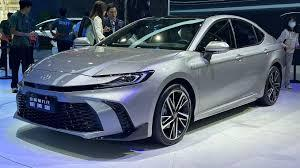toyota: (40, 71, 51, 82)
